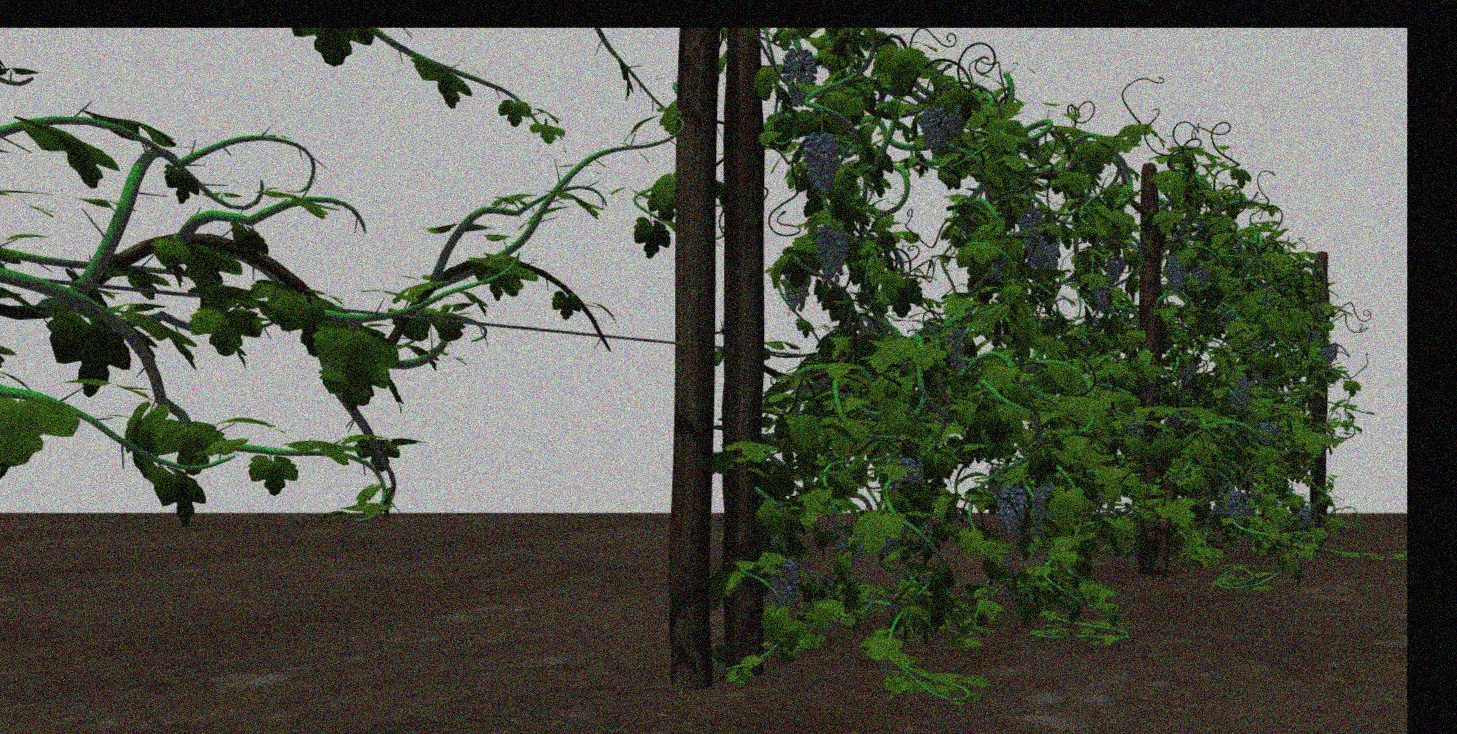grape: (803, 131, 841, 194), (811, 224, 850, 279), (782, 45, 817, 106), (767, 558, 800, 605), (996, 486, 1028, 533), (918, 107, 948, 151), (1031, 483, 1055, 524), (945, 330, 969, 370), (1018, 209, 1043, 244), (1164, 254, 1187, 292), (1227, 489, 1249, 523), (1229, 376, 1251, 410), (900, 456, 924, 484), (1092, 280, 1110, 312), (1105, 253, 1127, 279), (1026, 240, 1045, 267), (1044, 242, 1060, 269), (1320, 342, 1340, 362), (1297, 505, 1312, 531), (1260, 421, 1275, 441)
